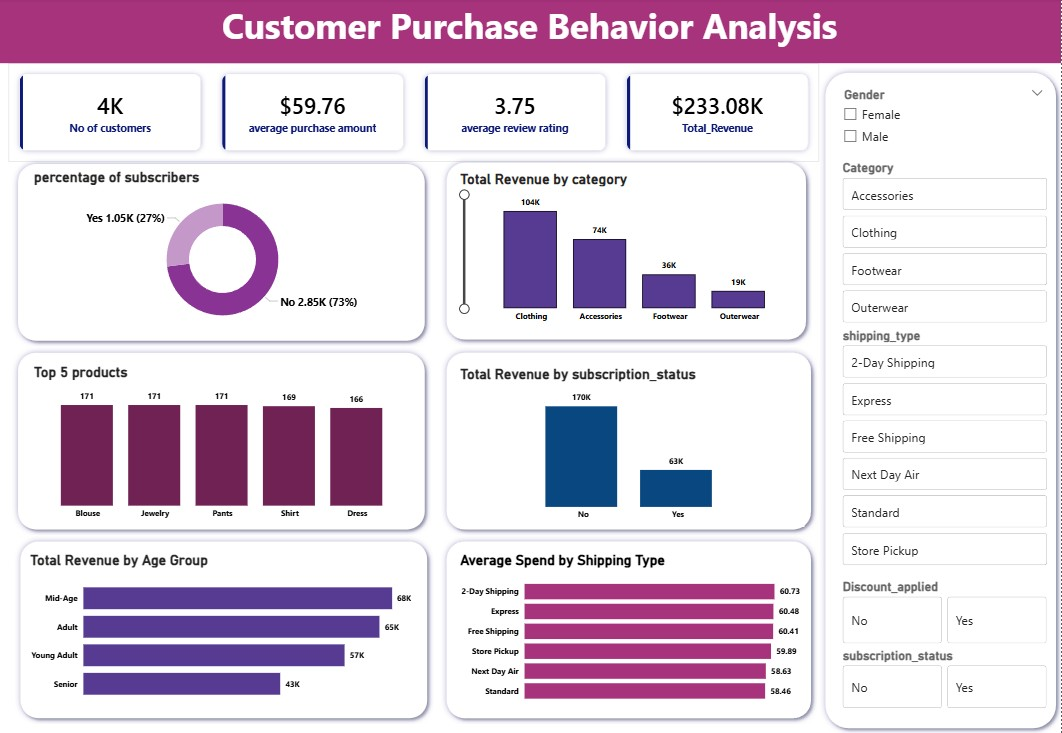

The page's visual inventory and layout, read from the dashboard file:
{"tool":"powerbi","page":{"name":"Page 1","canvas":[1620,1120],"ordinal":0},"visuals":[{"type":"cardVisual","fields":{"Data":["Customer_database.No of customers","Customer_database.average purchase amount","Customer_database.average review rating","Customer_database.Total_Revenue"]},"box":[17.1,98.9,1234.5,150.3],"z":0},{"type":"shape","box":[22.8,243.5,637.2,287.2],"z":1000},{"type":"donutChart","title":"percentage of subscribers","fields":{"Category":["Customer_database.subscription_status"],"Y":["CountNonNull(Customer_database.customer_id)"]},"box":[51.4,260.6,584,251.1],"z":2000},{"type":"shape","box":[675.3,241.6,564.9,287.2],"z":3000},{"type":"columnChart","title":"Total Revenue by category","fields":{"Category":["Customer_database.category"],"Y":["Sum(Customer_database.purchase_amount_usd)"]},"box":[700,262.5,519.3,239.7],"z":4000},{"type":"shape","box":[22.8,530.7,637.2,287.2],"z":5000},{"type":"columnChart","title":"Top 5 products","fields":{"Category":["Customer_database.item_purchased"],"Y":["CountNonNull(Customer_database.customer_id)"]},"box":[51.4,557.3,584,245.4],"z":6000},{"type":"shape","box":[675.3,530.7,572.6,287.2],"z":7000},{"type":"clusteredColumnChart","title":"Total Revenue by subscription_status","fields":{"Category":["Customer_database.subscription_status"],"Y":["Sum(Customer_database.purchase_amount_usd)"]},"box":[700,559.2,528.8,245.4],"z":8000},{"type":"shape","box":[1251.6,104.6,369,1015.8],"z":9000},{"type":"slicer","fields":{"Values":["Customer_database.gender"]},"box":[1276.4,129.3,327.2,117.9],"z":10000},{"type":"shape","box":[0,0,1320.1,98.9],"z":11000},{"type":"textbox","box":[0,0,1620.7,98.9],"z":12000},{"type":"advancedSlicerVisual","title":"Category","fields":{"Values":["Customer_database.category"]},"box":[1282.1,247.3,321.5,254.9],"z":13000},{"type":"advancedSlicerVisual","fields":{"Values":["Customer_database.shipping_type"]},"box":[1282.1,502.2,321.5,370.9],"z":14000},{"type":"advancedSlicerVisual","title":"Discount_applied","fields":{"Values":["Customer_database.discount_applied"]},"box":[1282.1,884.5,321.5,102.7],"z":15000},{"type":"advancedSlicerVisual","fields":{"Values":["Customer_database.subscription_status"]},"box":[1282.1,989.1,321.5,97],"z":16000},{"type":"shape","box":[26.6,817.9,637.2,287.2],"z":17000},{"type":"shape","box":[675.3,817.9,572.6,287.2],"z":18000},{"type":"barChart","title":"Total Revenue by Age Group","fields":{"Category":["Customer_database.age_group"],"Y":["Sum(Customer_database.purchase_amount_usd)"]},"box":[45.7,842.7,589.7,241.6],"z":19000},{"type":"clusteredBarChart","title":"Average Spend by Shipping Type","fields":{"Category":["Customer_database.shipping_type"],"Y":["Avg(Customer_database.purchase_amount_usd)"]},"box":[700,842.7,528.8,241.6],"z":20000}]}

Visuals, with their boxes in screenshot pixels (x1, y1, x2, y2), scaled from the page's 1620x1120 canvas onto the 1062x733 screenshot:
cardVisual - Customer_database.No of customers x Customer_database.average purchase amount: (11, 65, 820, 163)
shape: (15, 159, 433, 347)
"percentage of subscribers" donutChart: (34, 171, 417, 335)
shape: (443, 158, 813, 346)
"Total Revenue by category" columnChart: (459, 172, 799, 329)
shape: (15, 347, 433, 535)
"Top 5 products" columnChart: (34, 365, 417, 525)
shape: (443, 347, 818, 535)
"Total Revenue by subscription_status" clusteredColumnChart: (459, 366, 806, 527)
shape: (820, 68, 1061, 732)
slicer - Customer_database.gender: (837, 85, 1051, 162)
shape: (0, 0, 865, 65)
textbox: (0, 0, 1061, 65)
"Category" advancedSlicerVisual: (840, 162, 1051, 329)
advancedSlicerVisual - Customer_database.shipping_type: (840, 329, 1051, 571)
"Discount_applied" advancedSlicerVisual: (840, 579, 1051, 646)
advancedSlicerVisual - Customer_database.subscription_status: (840, 647, 1051, 711)
shape: (17, 535, 435, 723)
shape: (443, 535, 818, 723)
"Total Revenue by Age Group" barChart: (30, 552, 417, 710)
"Average Spend by Shipping Type" clusteredBarChart: (459, 552, 806, 710)
